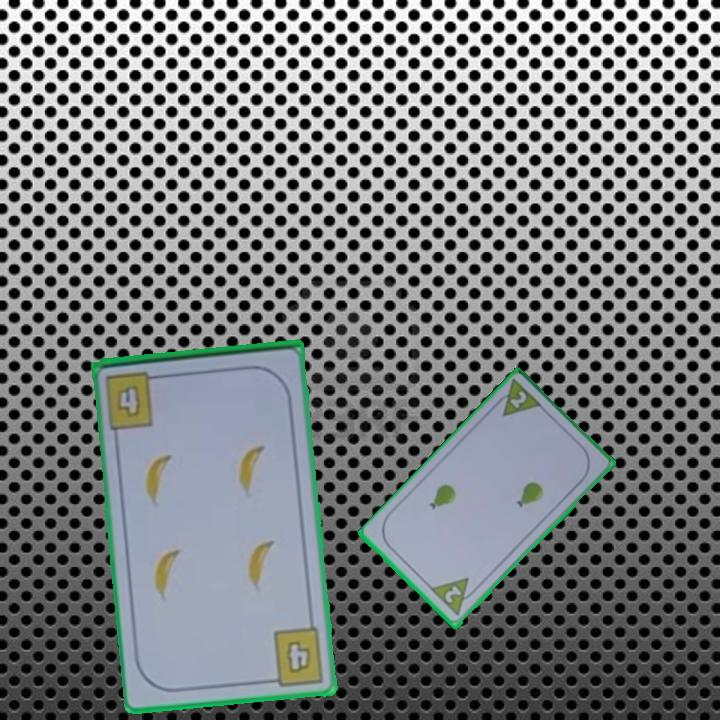2p: (427, 574, 481, 620), (489, 376, 545, 420)
4b: (101, 367, 166, 432), (263, 624, 327, 689)
